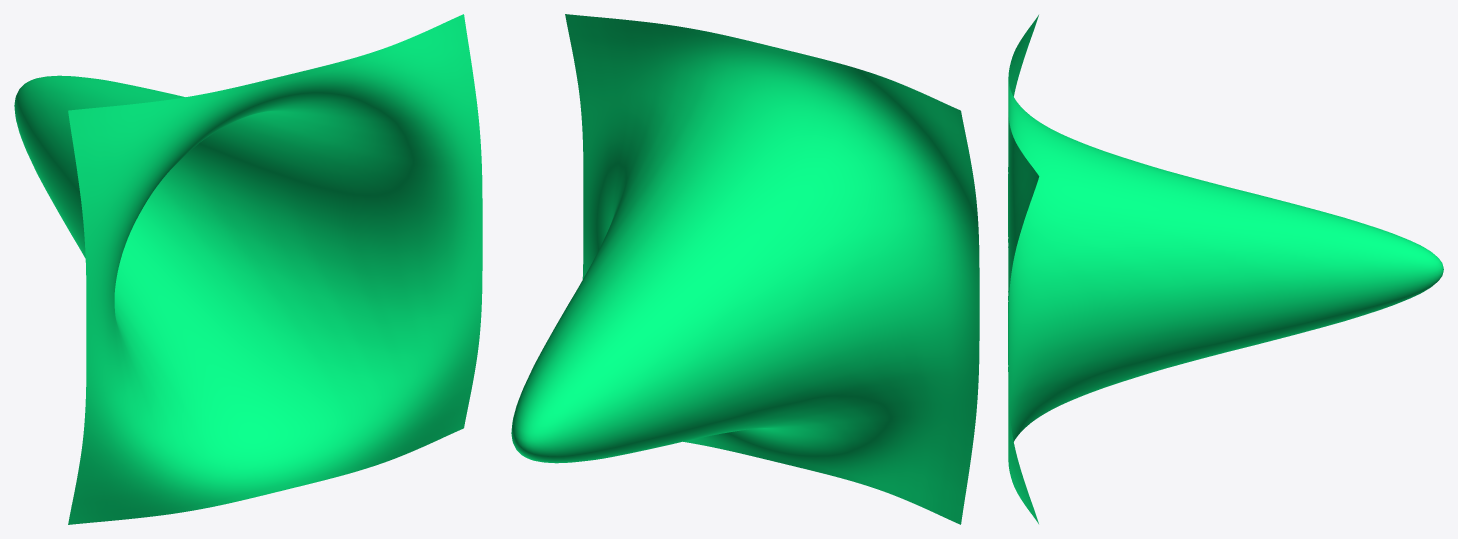
File: laplace_beltrami_surface_ar_universal.glb
The picture shows the model from 3 angles, left to right: view 1: azimuth 30°, elevation 25°; view 2: azimuth 150°, elevation 25°; view 3: azimuth 270°, elevation 25°; orthographic projection. The views are drawn at different scales.
Parts seen in each view (by area): view 1: laplace_beltrami_surface_ar; view 2: laplace_beltrami_surface_ar; view 3: laplace_beltrami_surface_ar.
Boxes of the visible parts, x1,y1,x2,y2 form: laplace_beltrami_surface_ar: (14,14,482,524); laplace_beltrami_surface_ar: (511,14,979,524); laplace_beltrami_surface_ar: (1008,15,1443,523).
Bounding box in the file's own units: 0.8823 × 0.8823 × 1.
